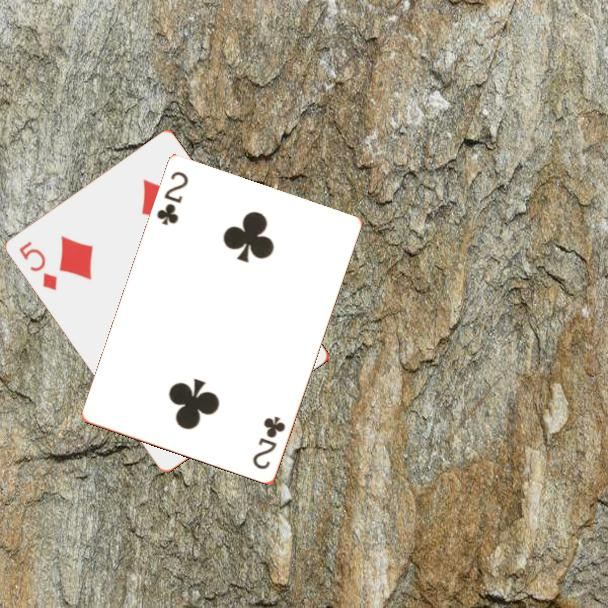c02: (249, 413, 288, 473), (153, 168, 191, 229)
d05: (16, 238, 61, 293)
